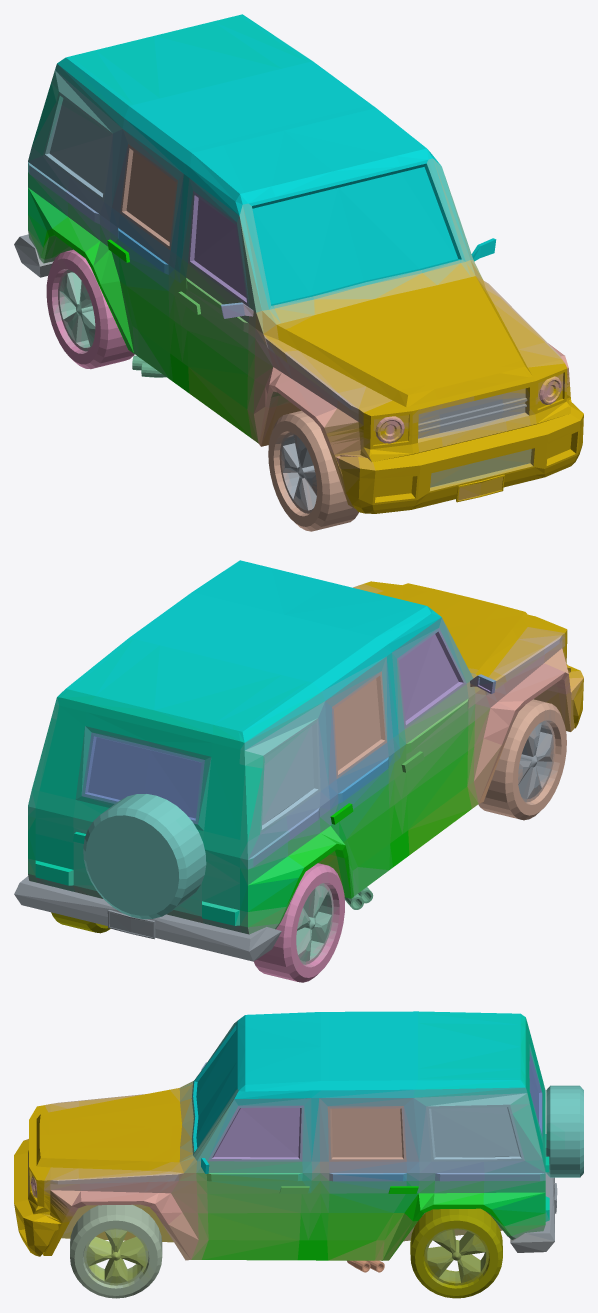
3 views of the same model, one above another, from view 1: azimuth 30°, elevation 25°; view 2: azimuth 150°, elevation 25°; view 3: azimuth 270°, elevation 25° (orthographic). The views are drawn at different scales.
Parts seen in each view (by area): view 1: world; view 2: world; view 3: world.
Part boxes in pixels (<box>): world: <box>14,14,583,531</box>; world: <box>14,560,583,982</box>; world: <box>14,1011,583,1298</box>.
Bounding box in the file's own units: 0.4268 × 0.4029 × 1.
